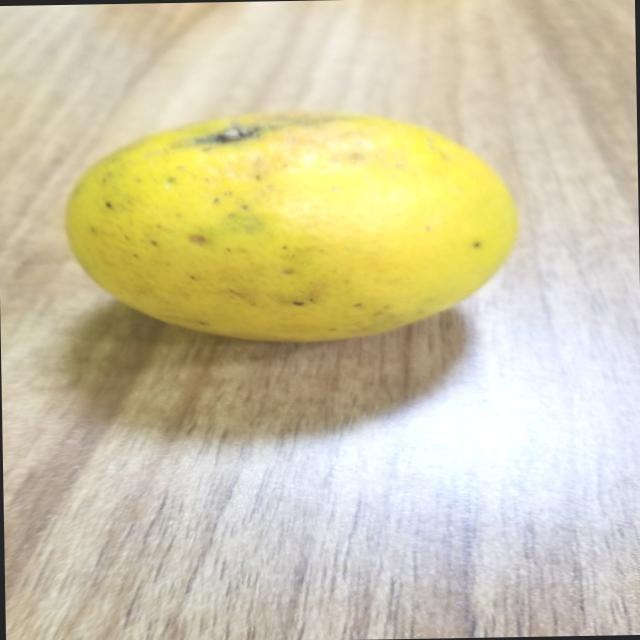agrume: (39, 91, 533, 354)
